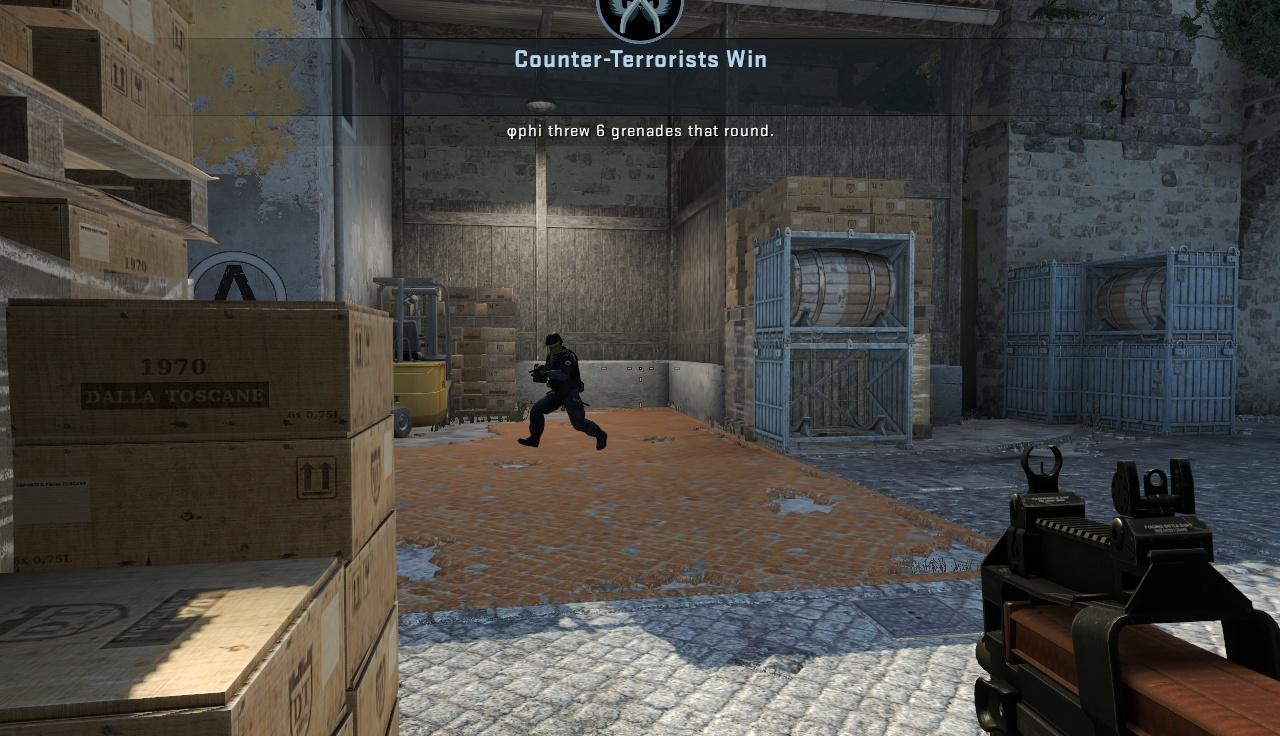ct: (531, 331, 584, 449)
cthead: (546, 333, 563, 355)
rifle: (979, 451, 1280, 736)
